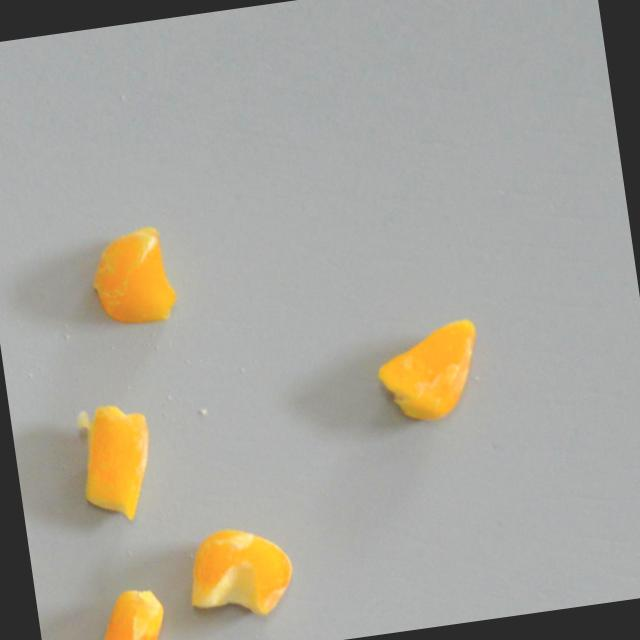estandar: (78, 585, 168, 640)
pelicula: (363, 308, 485, 426), (45, 411, 175, 508), (191, 515, 292, 632), (79, 223, 193, 325)
